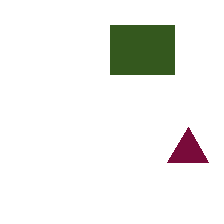rectangle: (110, 25, 174, 74)
triangle: (167, 127, 208, 162)
